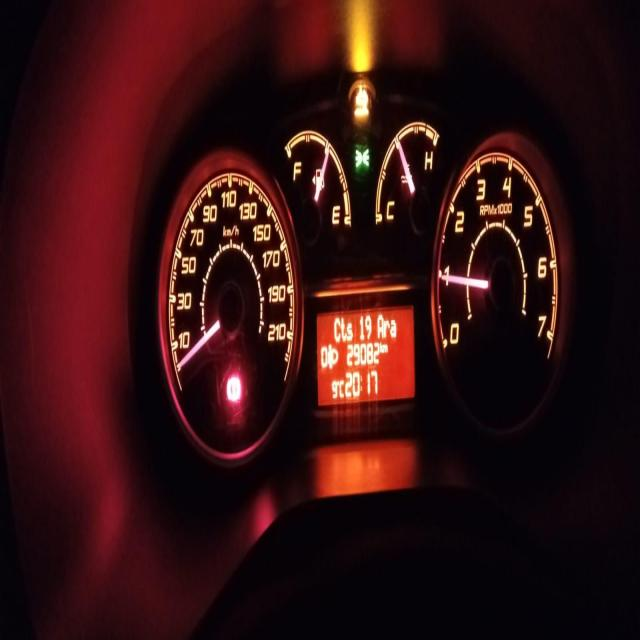odometer: (315, 304, 416, 404)
